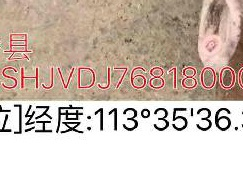text: (185, 22, 238, 68)
